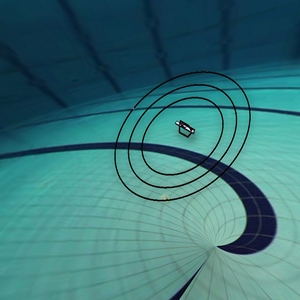circle: (94, 57, 262, 211)
submarine: (164, 109, 204, 149)
